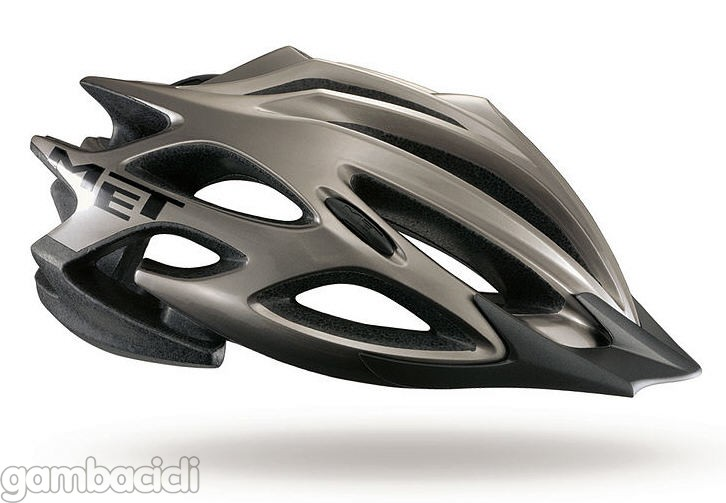helmet: (46, 47, 687, 398)
